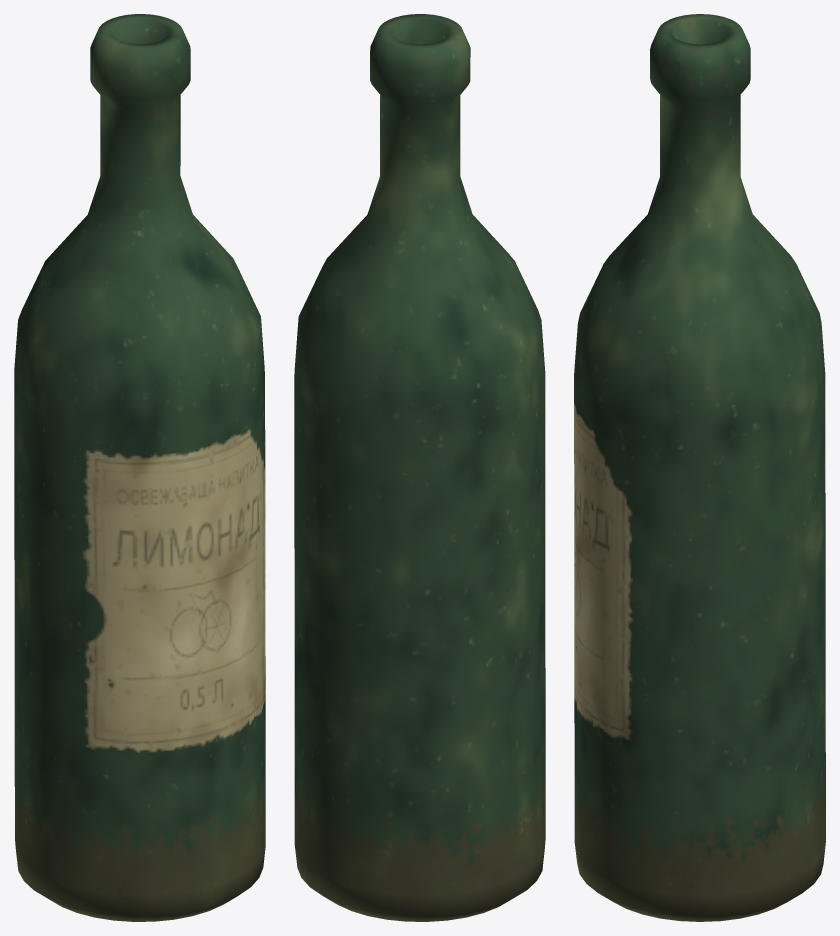
The model's file is common_bottle_tall.fbx.
3 views of the same model, side by side, from view 1: azimuth 30°, elevation 25°; view 2: azimuth 150°, elevation 25°; view 3: azimuth 270°, elevation 25° (orthographic).
Parts seen in each view (by area): view 1: SDT_Starter_common_bottle_tall; view 2: SDT_Starter_common_bottle_tall; view 3: SDT_Starter_common_bottle_tall.
Boxes of the visible parts, bbox=[...] form: SDT_Starter_common_bottle_tall: bbox=[14, 14, 265, 921]; SDT_Starter_common_bottle_tall: bbox=[294, 14, 545, 921]; SDT_Starter_common_bottle_tall: bbox=[574, 14, 825, 921].
Size of the model in its own units: 0.1 by 0.375 by 0.1.
1 material, 1 textured.
